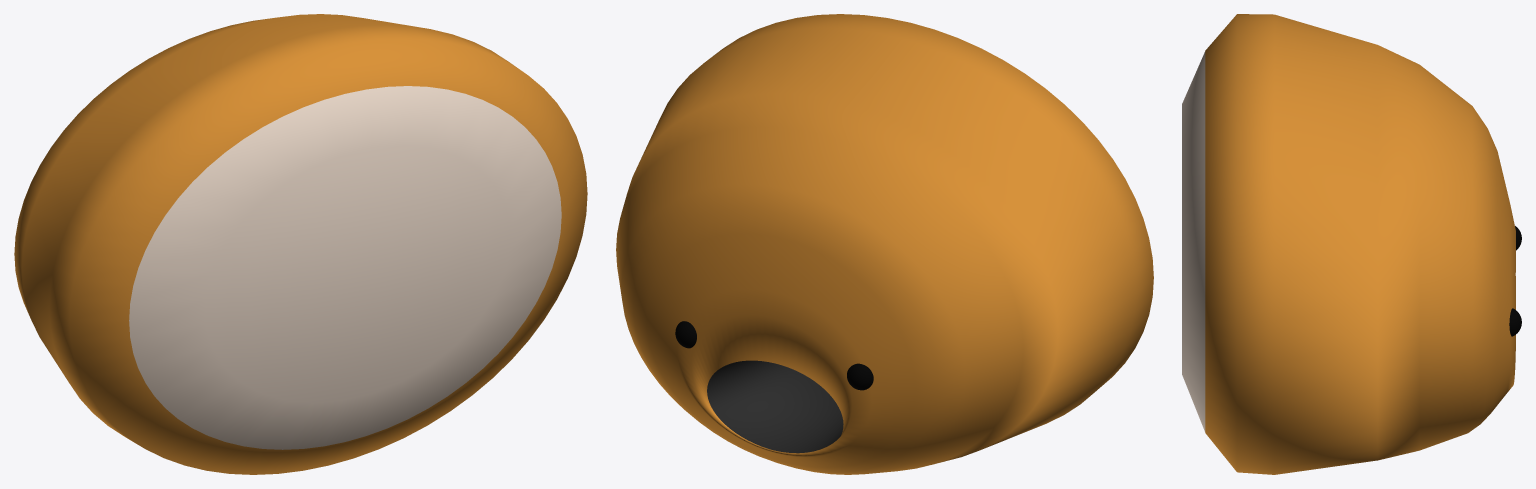
File: Head.fbx
The picture shows the model from 3 angles, left to right: view 1: azimuth 30°, elevation 25°; view 2: azimuth 150°, elevation 25°; view 3: azimuth 270°, elevation 25°; orthographic projection. The views are drawn at different scales.
Parts seen in each view (by area): view 1: Head; view 2: Head, Eye.001; view 3: Head.
Part boxes in pixels (x1=…): Head: x1=14, y1=14, x2=587, y2=474; Head: x1=616, y1=14, x2=1153, y2=474; Eye.001: x1=847, y1=363, x2=873, y2=390; Head: x1=1182, y1=14, x2=1515, y2=474.
Bounding box in the file's own units: 132 × 102 × 79.66.
